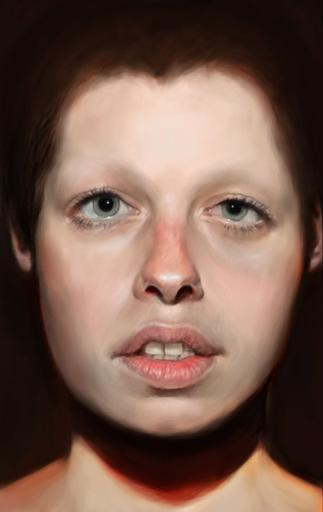left_eye: (200, 200, 276, 237)
left_lip_corner: (213, 340, 229, 366)
right_eye: (68, 193, 144, 237)
right_lip_corner: (108, 344, 129, 370)
